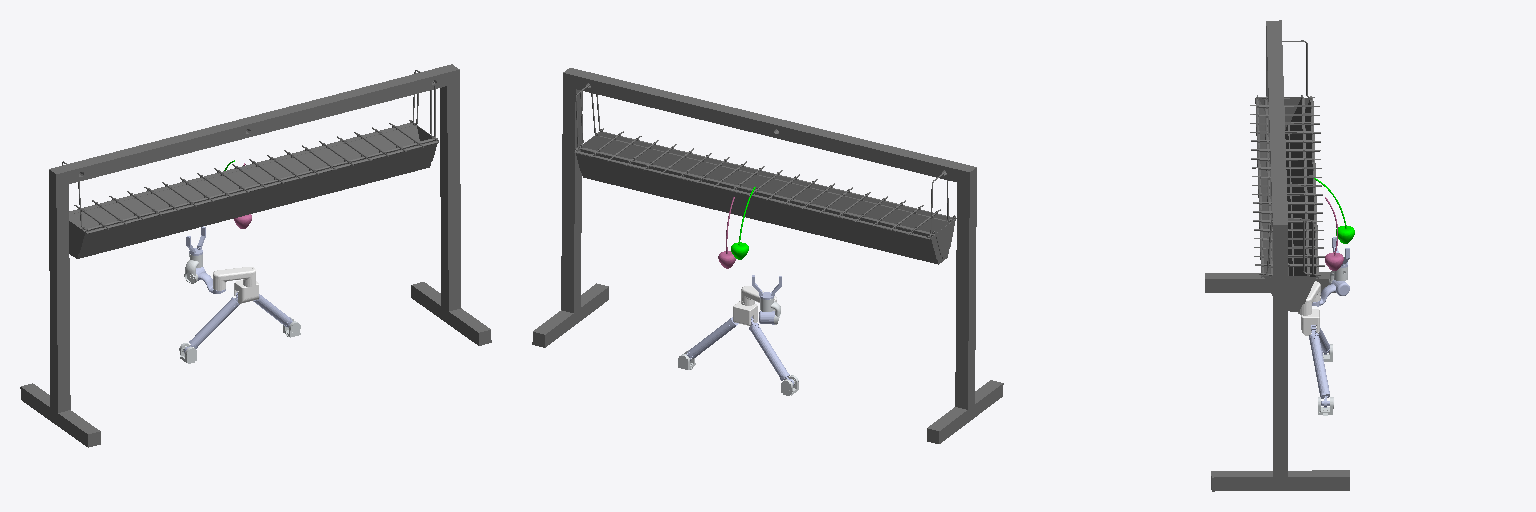
--- Facts derived from the render (not from the file) ---
Views: 3 orthographic renders of the robot side by side, from view 1: azimuth 30°, elevation 25°; view 2: azimuth 150°, elevation 25°; view 3: azimuth 270°, elevation 25°.
Model arm12 with 29 links and 28 joints (16 revolute, 6 continuous, 2 prismatic, 4 fixed), rooted at rotated_base, posed every joint at zero.
Links seen in each view (by area): view 1: left_holder, pot, l6, l3; view 2: left_holder, pot, l3, l11; view 3: left_holder, pot, l11.
Link boxes in pixels (box(x1,y1,x2,y2)): left_holder: box(20, 64, 491, 447); pot: box(62, 70, 434, 255); l6: box(213, 267, 255, 290); l3: box(184, 292, 239, 352); left_holder: box(532, 68, 1003, 443); pot: box(574, 85, 951, 264); l3: box(749, 316, 793, 385); l11: box(686, 317, 738, 360); left_holder: box(1205, 20, 1349, 491); pot: box(1259, 40, 1324, 311); l11: box(1309, 325, 1329, 407).
Size in the robot's own frame: 2.42 by 0.731 by 1.44 metres.
Meshes: 18 distinct files referenced, 13 mesh visuals loaded (11 binary STL, 2 ASCII STL); not drawn: 5 (reference not matched to a file when rendering).

The robot description file, URDF, robot "arm12":
<?xml version="1.0" ?>
<!-- =================================================================================== -->
<!-- |    This document was autogenerated by xacro from src/arm12/urdf/arm12.urdf.xacro | -->
<!-- |    EDITING THIS FILE BY HAND IS NOT RECOMMENDED                                 | -->
<!-- =================================================================================== -->
<robot name="arm12">
  <!-- <robot
  name="straw"> -->
  <material name="gray">
    <color rgba="0.5 0.5 0.5 1.0"/>
  </material>
  <material name="green">
    <color rgba="0. 1 0. 1.0"/>
  </material>

  <link name="straw_base_link">
    <inertial>
      <origin rpy="0 0 0" xyz="0.72536 -2.6077 -1.278"/>
      <mass value="83.793"/>
      <inertia ixx="49.037" ixy="12.983" ixz="-0.85625" iyy="197.29" iyz="0.10604" izz="153.05"/>
    </inertial>
    <!-- <visual>
      <origin rpy="0 0 0" xyz="0 0 0"/>
      <geometry>
        <mesh filename="package://straw/meshes/straw_base_link.STL" scale="0.75 0.75 0.75"/>
      </geometry>
      <material name="gray"/>
    </visual> -->
    <!-- <collision>
      <origin rpy="0 0 0" xyz="0 0 0"/>
      <geometry>
        <mesh filename="package://straw/meshes/straw_base_link.STL"  scale="0.75 0.75 0.75"/>
      </geometry>
    </collision> -->
  </link>
  <link name="left_holder">
    <inertial>
      <origin rpy="0 0 0" xyz="0.068289 -1.3911 0.41242"/>
      <mass value="90.637"/>
      <inertia ixx="203.28" ixy="-5.2628E-06" ixz="-4.6215E-05" iyy="48.292" iyz="5.4272" izz="157.67"/>
    </inertial>
    <visual>
      <origin rpy="0 0 0" xyz="0 0 0"/>
      <geometry>
        <mesh filename="package://straw/meshes/left_holder.STL"  scale="0.75 0.75 0.75"/>
      </geometry>
      <material name="gray"/>
    </visual>
    <!-- <collision>
      <origin rpy="0 0 0" xyz="0 0 0"/>
      <geometry>
        <mesh filename="package://straw/meshes/left_holder.STL"  scale="0.75 0.75 0.75"/>
      </geometry>
    </collision> -->
  </link>
  <joint name="lh1" type="fixed">
    <!-- <origin rpy="-3.1003 -0.0006971 1.4841" xyz="0 0 0"/> -->
    <origin rpy="-3.1003 -0.0006971 1.4841" xyz="2.1219 -2.7952 -0.90577"/>
    <parent link="straw_base_link"/>
    <child link="left_holder"/>
    <axis xyz="0 0 0"/>
  </joint>
  <link name="pot">
    <inertial>
      <origin rpy="0 0 0" xyz="0.0723 -0.11104 1.4288"/>
      <mass value="7.0989"/>
      <inertia ixx="4.8702" ixy="1.4633E-05" ixz="-1.887E-06" iyy="4.8836" iyz="0.044366" izz="0.12976"/>
    </inertial>
    <visual>
      <origin rpy="0 0 0" xyz="0 0 0"/>
      <geometry>
        <mesh filename="package://straw/meshes/pot.STL"  scale="0.75 0.75 0.75"/>
      </geometry>
      <material name="gray"/>
    </visual>
    <collision>
      <origin rpy="0 0 0" xyz="0 0 0"/>
      <geometry>
        <mesh filename="package://straw/meshes/pot.STL"  scale="0.75 0.75 0.75"/>
      </geometry>
    </collision>
  </link>
  <joint name="lf_pot" type="fixed">
    <origin rpy="-1.5306 0 -3.1416" xyz="0.17343 0.013392 0.017884"/>
    <parent link="left_holder"/>
    <child link="pot"/>
    <axis xyz="0 0 0"/>
  </joint>
  <link name="stem1">
    <inertial>
      <origin rpy="0 0 0" xyz="0.31086 -0.35019 0.00026615"/>
      <mass value="1.1291"/>
      <inertia ixx="0.0022005" ixy="0.00034925" ixz="-8.6306E-07" iyy="0.002305" iyz="3.3465E-06" izz="0.0025724"/>
    </inertial>
    <visual>
      <origin rpy="0 0 0" xyz="0 0 0"/>
      <geometry>
        <mesh filename="package://straw/meshes/stem1.STL" scale="0.7 0.7 0.7"/>
      </geometry>
      <material name="green"/>
    </visual>
    <collision>
      <origin rpy="0 0 0" xyz="0 0 0"/>
      <geometry>
        <mesh filename="package://straw/meshes/stem1.STL" scale="0.7 0.7 0.7"/>
      </geometry>
    </collision>
  </link>
  <link name="straw1_intermediate">
    <inertial>
      <mass value="0.001"/>
      <inertia ixx="0.0001" ixy="0" ixz="0" iyy="0.0001" iyz="0" izz="0.0001"/>
    </inertial>
  </link>
  <joint name="stem1_straw1_joint_x" type="revolute">
    <parent link="stem1"/>
    <child link="straw1_intermediate"/>
    <origin rpy="0 0 0" xyz="0.33533 -0.43279 -0.0013777"/>
    <axis xyz="1 0 0"/>
    <limit effort="10" lower="-0.785" upper="0.785" velocity="1"/>
    <dynamics damping="0.5" friction="0.1"/>
  </joint>
  <joint name="stem1_straw1_joint_y" type="revolute">
    <parent link="straw1_intermediate"/>
    <child link="straw1"/>
    <origin rpy="0.25307 -1.4835 0" xyz="0 0 0"/>
    <axis xyz="0 1 0"/>
    <limit effort="10" lower="-0.785" upper="0.785" velocity="1"/>
    <dynamics damping="0.5" friction="0.1"/>
  </joint>
  <link name="straw1">
    <inertial>
      <origin rpy="0 0 0" xyz="0 0.075854 -9.8582E-07"/>
      <mass value="1.0831"/>
      <inertia ixx="0.0017742" ixy="3.2552E-19" ixz="2.1395E-23" iyy="0.0019325" iyz="3.2233E-08" izz="0.0017742"/>
    </inertial>
    <visual>
      <origin rpy="0 0 0" xyz="0 0 0"/>
      <geometry>
        <mesh filename="package://straw/meshes/straw1.STL" scale="1 1 1"/>
      </geometry>
      <material name="transparent_gray">
        <color rgba="0.5 0.5 0.5 0"/> 
      </material>
    </visual>
    <!-- <collision>
      <origin rpy="0 0 0" xyz="0 0 0"/>
      <geometry>
        <mesh filename="package://straw/meshes/straw1.STL" scale="1 1 1"/>
      </geometry>
    </collision> -->
  </link>
  <link name="stem2">
    <inertial>
      <origin rpy="0 0 0" xyz="0.32679 -0.34228 -0.0023318"/>
      <mass value="1.1291"/>
      <inertia ixx="0.0022449" ixy="0.00031251" ixz="-4.7508E-06" iyy="0.0022602" iyz="6.5609E-06" izz="0.0025727"/>
    </inertial>
    <visual>
      <origin rpy="0 0 0" xyz="0.08 -0.05 -0"/>
      <geometry>
        <mesh filename="package://straw/meshes/stem2.STL" scale="0.7 0.7 0.7"/>
      </geometry>
      <!-- <material name="green"/> -->
    </visual>
    <collision>
      <origin rpy="0 0 0" xyz="0.08 -0.05 -0"/>
      <geometry>
        <mesh filename="package://straw/meshes/stem2.STL" scale="0.7 0.7 0.7"/>
      </geometry>
    </collision>
  </link>
  <link name="straw2_intermediate">
    <inertial>
      <mass value="0.001"/>
      <inertia ixx="0.0001" ixy="0" ixz="0" iyy="0.0001" iyz="0" izz="0.0001"/>
    </inertial>
  </link>
  <joint name="stem2_straw2_joint_x" type="revolute">
    <parent link="stem2"/>
    <child link="straw2_intermediate"/>
    <origin rpy="0 0 0" xyz="0.37743 -0.41247 -0.0063167"/>
    <axis xyz="1 0 0"/>
    <limit effort="10" lower="-0.785" upper="0.785" velocity="1"/>
    <dynamics damping="0.5" friction="0.1"/>
  </joint>
  <joint name="stem2_straw2_joint_y" type="revolute">
    <parent link="straw2_intermediate"/>
    <child link="straw2"/>
    <origin rpy="0.62832 -1.4835 0" xyz="0 0 0"/>
    <axis xyz="0 1 0"/>
    <limit effort="10" lower="-0.785" upper="0.785" velocity="1"/>
    <dynamics damping="0.5" friction="0.1"/>
  </joint>
  <link name="straw2">
    <inertial>
      <origin rpy="0 0 0" xyz="0 0.075854 -9.8582E-07"/>
      <mass value="1.0831"/>
      <inertia ixx="0.0017742" ixy="2.5998E-20" ixz="2.2169E-24" iyy="0.0019325" iyz="3.2233E-08" izz="0.0017742"/>
    </inertial>
    <visual>
      <origin rpy="0 0 0" xyz="0 0 0"/>
      <geometry>
        <mesh filename="package://straw/meshes/straw2.STL" scale="1 1 1"/>
      </geometry>
      <material name="transparent_gray">
        <color rgba="0.5 0.5 0.5 0"/> 
      </material>
    </visual>
    <!-- <collision>
      <origin rpy="0 0 0" xyz="0 0 0"/>
      <geometry>
        <mesh filename="package://straw/meshes/straw2.STL" scale="1 1 1"/>
      </geometry>
    </collision> -->
  </link>
  <link name="stem3">
    <inertial>
      <origin rpy="0 0 0" xyz="0.31061 -0.35019 -0.0026474"/>
      <mass value="1.1291"/>
      <inertia ixx="0.0022005" ixy="0.00034925" ixz="-8.6306E-07" iyy="0.002305" iyz="3.3465E-06" izz="0.0025724"/>
    </inertial>
    <visual>
      <origin rpy="0 0 0" xyz="0 0 0"/>
      <geometry>
        <mesh filename="package://straw/meshes/stem3.STL" scale="0.7 0.7 0.7"/>
      </geometry>
      <material name="green"/>
    </visual>
    <collision>
      <origin rpy="0 0 0" xyz="0 0 0"/>
      <geometry>
        <mesh filename="package://straw/meshes/stem3.STL" scale="0.7 0.7 0.7"/>
      </geometry>
    </collision>
  </link>
  <link name="straw3_intermediate">
    <inertial>
      <mass value="0.001"/>
      <inertia ixx="0.0001" ixy="0" ixz="0" iyy="0.0001" iyz="0" izz="0.0001"/>
    </inertial>
  </link>
  <joint name="stem3_straw3_joint_x" type="revolute">
    <parent link="stem3"/>
    <child link="straw3_intermediate"/>
    <origin rpy="0 0 0" xyz="0.33506 -0.43279 -0.0044151"/>
    <axis xyz="1 0 0"/>
    <limit effort="10" lower="-0.785" upper="0.785" velocity="1"/>
    <dynamics damping="0.5" friction="0.1"/>
  </joint>
  <joint name="stem3_straw3_joint_y" type="revolute">
    <parent link="straw3_intermediate"/>
    <child link="straw3"/>
    <origin rpy="0.25307 -1.4835 0" xyz="0 0 0"/>
    <axis xyz="0 1 0"/>
    <limit effort="10" lower="-0.785" upper="0.785" velocity="1"/>
    <dynamics damping="0.5" friction="0.1"/>
  </joint>
  <link name="straw3">
    <inertial>
      <origin rpy="0 0 0" xyz="-2.2204E-16 0.075854 -9.8582E-07"/>
      <mass value="1.0831"/>
      <inertia ixx="0.0017742" ixy="6.2414E-20" ixz="1.0659E-23" iyy="0.0019325" iyz="3.2233E-08" izz="0.0017742"/>
    </inertial>
    <visual>
      <origin rpy="0 0 0" xyz="0 0 0"/>
      <geometry>
        <mesh filename="package://straw/meshes/straw3.STL" scale="1 1 1" />
      </geometry>
      <material name="transparent_gray">
        <color rgba="0.5 0.5 0.5 0"/> 
      </material>

    </visual>
    <!-- <collision>
      <origin rpy="0 0 0" xyz="0 0 0"/>
      <geometry>
        <mesh filename="package://straw/meshes/straw3.STL" scale="0.75 0.75 0.75"/>
      </geometry>
    </collision> -->
  </link>
  <!-- <link name="right_holder">
    <inertial>
      <origin rpy="0 0 0" xyz="0.16998 1.3378 0.16679"/>
      <mass value="7.0141"/>
      <inertia ixx="4.8686" ixy="1.7169E-06" ixz="-4.633E-05" iyy="0.12782" iyz="-0.073617" izz="4.8819"/>
    </inertial>
    <visual>
      <origin rpy="0 0 0" xyz="0 0 0"/>
      <geometry>
        <mesh filename="package://straw/meshes/right_holder.STL"/>
      </geometry>
      <material name="gray"/>
    </visual>
    <collision>
      <origin rpy="0 0 0" xyz="0 0 0"/>
      <geometry>
        <mesh filename="package://straw/meshes/right_holder.STL"/>
      </geometry>
    </collision>
  </link> -->
  <!-- <joint name="rh1" type="fixed">
    <origin rpy="3.1178 -0.0006971 1.4841" xyz="-0.64819 -2.6236 -0.90294"/>
    <parent link="base_link"/>
    <child link="right_holder"/>
    <axis xyz="0 0 0"/>
  </joint> -->
  <link name="stem1_intermediate1">
    <inertial>
      <mass value="0.001"/>
      <inertia ixx="0.0001" ixy="0" ixz="0" iyy="0.0001" iyz="0" izz="0.0001"/>
    </inertial>
  </link>
  <link name="stem1_intermediate2">
    <inertial>
      <mass value="0.001"/>
      <inertia ixx="0.0001" ixy="0" ixz="0" iyy="0.0001" iyz="0" izz="0.0001"/>
    </inertial>
  </link>
  <joint name="pot_stem1_x" type="revolute">
    <parent link="pot"/>
    <child link="stem1_intermediate1"/>
    <origin rpy="0 0 0" xyz="-0.069846 0.034051 0.92078"/>
    <axis xyz="1 0 0"/>
    <limit effort="10" lower="-0.523" upper="0.523" velocity="1"/>
    <dynamics damping="0.5" friction="0.1"/>
  </joint>
  <joint name="pot_stem1_y" type="revolute">
    <parent link="stem1_intermediate1"/>
    <child link="stem1_intermediate2"/>
    <origin rpy="0 0 0" xyz="0 0 0"/>
    <axis xyz="0 1 0"/>
    <limit effort="10" lower="-0.523" upper="0.523" velocity="1"/>
    <dynamics damping="0.5" friction="0.1"/>
  </joint>
  <joint name="pot_stem1_z" type="revolute">
    <parent link="stem1_intermediate2"/>
    <child link="stem1"/>
    <origin rpy="3.1189 0.0035789 -2.8888" xyz="0 0 0"/>
    <axis xyz="0 0 1"/>
    <limit effort="10" lower="-0.523" upper="0.523" velocity="1"/>
    <dynamics damping="0.5" friction="0.1"/>
  </joint>
  <link name="stem2_intermediate1">
    <inertial>
      <mass value="0.001"/>
      <inertia ixx="0.0001" ixy="0" ixz="0" iyy="0.0001" iyz="0" izz="0.0001"/>
    </inertial>
  </link>
  <link name="stem2_intermediate2">
    <inertial>
      <mass value="0.001"/>
      <inertia ixx="0.0001" ixy="0" ixz="0" iyy="0.0001" iyz="0" izz="0.0001"/>
    </inertial>
  </link>
  <joint name="pot_stem2_x" type="revolute">
    <parent link="pot"/>
    <child link="stem2_intermediate1"/>
    <origin rpy="0 0 0" xyz="-0.071011 0.062145 0.99538"/>
    <axis xyz="1 0 0"/>
    <limit effort="10" lower="-0.523" upper="0.523" velocity="1"/>
    <dynamics damping="0.5" friction="0.1"/>
  </joint>
  <joint name="pot_stem2_y" type="revolute">
    <parent link="stem2_intermediate1"/>
    <child link="stem2_intermediate2"/>
    <origin rpy="0 0 0" xyz="0 0 0"/>
    <axis xyz="0 1 0"/>
    <limit effort="10" lower="-0.523" upper="0.523" velocity="1"/>
    <dynamics damping="0.5" friction="0.1"/>
  </joint>
  <joint name="pot_stem2_z" type="revolute">
    <parent link="stem2_intermediate2"/>
    <child link="stem2"/>
    <origin rpy="3.0898 0.017653 -2.5152" xyz="0 0 0"/>
    <axis xyz="0 0 1"/>
    <limit effort="10" lower="-0.523" upper="0.523" velocity="1"/>
    <dynamics damping="0.5" friction="0.1"/>
  </joint>
  <link name="stem3_intermediate1">
    <inertial>
      <mass value="0.001"/>
      <inertia ixx="0.0001" ixy="0" ixz="0" iyy="0.0001" iyz="0" izz="0.0001"/>
    </inertial>
  </link>
  <link name="stem3_intermediate2">
    <inertial>
      <mass value="0.001"/>
      <inertia ixx="0.0001" ixy="0" ixz="0" iyy="0.0001" iyz="0" izz="0.0001"/>
    </inertial>
  </link>
  <joint name="pot_stem3_x" type="revolute">
    <parent link="pot"/>
    <child link="stem3_intermediate1"/>
    <origin rpy="0 0 0" xyz="-0.05556 0.033891 1.0852"/>
    <axis xyz="1 0 0"/>
    <limit effort="10" lower="-0.523" upper="0.523" velocity="1"/>
    <dynamics damping="0.5" friction="0.1"/>
  </joint>
  <joint name="pot_stem3_y" type="revolute">
    <parent link="stem3_intermediate1"/>
    <child link="stem3_intermediate2"/>
    <origin rpy="0 0 0" xyz="0 0 0"/>
    <axis xyz="0 1 0"/>
    <limit effort="10" lower="-0.523" upper="0.523" velocity="1"/>
    <dynamics damping="0.5" friction="0.1"/>
  </joint>
  <joint name="pot_stem3_z" type="revolute">
    <parent link="stem3_intermediate2"/>
    <child link="stem3"/>
    <origin rpy="3.1189 0.0035789 -2.8888" xyz="0 0 0"/>
    <axis xyz="0 0 1"/>
    <limit effort="10" lower="-0.523" upper="0.523" velocity="1"/>
    <dynamics damping="0.5" friction="0.1"/>
  </joint>
  <link name="rotated_base"/>
  <joint name="rot_to_base" type="fixed">
    <parent link="rotated_base"/>
    <child link="base_link"/>
    <origin rpy="0 3.14 0" xyz="0 0 0"/>
  </joint>
  <joint name="attach_straw" type="fixed">
    <parent link="rotated_base"/>
    <child link="straw_base_link"/>
    <origin rpy="0 0 0.1" xyz="-1.3 2.3 2"/>
  </joint>
  <link name="base_link">
    <inertial>
      <origin rpy="0 0 0" xyz="-0.114741653388133 -0.00394836028883594 -0.0536105920933669"/>
      <mass value="2.63443753992699"/>
      <inertia ixx="0.00189567328668365" ixy="7.29873865389891E-06" ixz="0.000140090900098037" iyy="0.158992383742472" iyz="1.36209227842431E-06" izz="0.158257846821755"/>
    </inertial>
    <visual>
      <origin rpy="0 0 0" xyz="0 0 0"/>
      <geometry>
        <mesh filename="package://arm12/meshes/base_link.STL"/>
      </geometry>
      <material name="">
        <color rgba="0.792156862745098 0.819607843137255 0.933333333333333 1"/>
      </material>
    </visual>
    <collision>
      <origin rpy="0 0 0" xyz="0 0 0"/>
      <geometry>
        <mesh filename="package://arm12/meshes/base_link.STL"/>
      </geometry>
    </collision>
  </link>
  <link name="l1">
    <inertial>
      <origin rpy="0 0 0" xyz="0.403597483420043 -0.0414638574022828 0.00700359932104074"/>
      <mass value="0.381600228345592"/>
      <inertia ixx="0.000152419359459052" ixy="-1.16717541525886E-07" ixz="-4.78639401455686E-07" iyy="0.00015874224871389" iyz="3.26007402233397E-07" izz="0.000167838112577603"/>
    </inertial>
    <visual>
      <origin rpy="0 0 0" xyz="0 0 0"/>
      <geometry>
        <mesh filename="package://arm12/meshes/l1.STL"/>
      </geometry>
      <material name="">
        <color rgba="0.898039215686275 0.917647058823529 0.929411764705882 1"/>
      </material>
    </visual>
    <collision>
      <origin rpy="0 0 0" xyz="0 0 0"/>
      <geometry>
        <mesh filename="package://arm12/meshes/l1.STL"/>
      </geometry>
    </collision>
  </link>
  <joint name="j1" type="prismatic">
    <origin rpy="1.5708 0 0" xyz="-0.79073 0.0075 -0.026676"/>
    <parent link="base_link"/>
    <child link="l1"/>
    <axis xyz="1 0.00024256 0"/>
    <limit effort="1000" lower="-0.37" upper="0.35" velocity="1000"/>
  </joint>
  <link name="l11">
    <inertial>
      <origin rpy="0 0 0" xyz="0.109124708134365 -0.106742142823085 0.0291269836365173"/>
      <mass value="0.308192429361636"/>
      <inertia ixx="0.00036660835632017" ixy="0.000236532188858594" ixz="-5.91891737788076E-05" iyy="0.000377052003364126" iyz="5.79126892712075E-05" izz="0.000595833629485193"/>
    </inertial>
    <visual>
      <origin rpy="0 0 0" xyz="0 0 0"/>
      <geometry>
        <mesh filename="package://arm12/meshes/l11.STL"/>
      </geometry>
      <material name="">
        <color rgba="0.792156862745098 0.819607843137255 0.933333333333333 1"/>
      </material>
    </visual>
    <collision>
      <origin rpy="0 0 0" xyz="0 0 0"/>
      <geometry>
        <mesh filename="package://arm12/meshes/l11.STL"/>
      </geometry>
    </collision>
  </link>
  <joint name="j11" type="continuous">
    <origin rpy="0 0 0" xyz="0.403574468337888 -0.0486058728976355 -0.000248553231492891"/>
    <parent link="l1"/>
    <child link="l11"/>
    <axis xyz="0 0 -1"/>
  </joint>
  <link name="l2">
    <inertial>
      <origin rpy="0 0 0" xyz="1.0157003601035 -0.0384463563381593 0.00765610841163893"/>
      <mass value="0.51688405008029"/>
      <inertia ixx="0.000289252991255811" ixy="6.16500231917276E-07" ixz="-1.38368241480024E-06" iyy="0.000291829291446418" iyz="-1.10552388292668E-06" izz="0.00026788505040365"/>
    </inertial>
    <visual>
      <origin rpy="0 0 0" xyz="0 0 0"/>
      <geometry>
        <mesh filename="package://arm12/meshes/l2.STL"/>
      </geometry>
      <material name="">
        <color rgba="0.898039215686275 0.917647058823529 0.929411764705882 1"/>
      </material>
    </visual>
    <collision>
      <origin rpy="0 0 0" xyz="0 0 0"/>
      <geometry>
        <mesh filename="package://arm12/meshes/l2.STL"/>
      </geometry>
    </collision>
  </link>
  <joint name="j2" type="prismatic">
    <origin rpy="1.5708 0 0" xyz="-0.79073 0.0075 -0.026676"/>
    <parent link="base_link"/>
    <child link="l2"/>
    <axis xyz="1 0.00024256 0"/>
    <limit effort="1000" lower="-0.26" upper="0.32" velocity="1000"/>
  </joint>
  <link name="l3">
    <inertial>
      <origin rpy="0 0 0" xyz="-0.10814121670337 -0.105773126393835 0.0288760940795127"/>
      <mass value="0.306128922940993"/>
      <inertia ixx="0.000367090541907876" ixy="-0.000237220677320172" ixz="5.90721357269542E-05" iyy="0.000377593275938236" iyz="5.77716342409563E-05" izz="0.000596928132744383"/>
    </inertial>
    <visual>
      <origin rpy="0 0 0" xyz="0 0 0"/>
      <geometry>
        <mesh filename="package://arm12/meshes/l3.STL"/>
      </geometry>
      <material name="">
        <color rgba="0.792156862745098 0.819607843137255 0.933333333333333 1"/>
      </material>
    </visual>
    <collision>
      <origin rpy="0 0 0" xyz="0 0 0"/>
      <geometry>
        <mesh filename="package://arm12/meshes/l3.STL"/>
      </geometry>
    </collision>
  </link>
  <joint name="j3" type="revolute">
    <origin rpy="0 0 0" xyz="1.0158 -0.048606 -0.00024711"/>
    <parent link="l2"/>
    <child link="l3"/>
    <axis xyz="0 0 -1"/>
    <limit effort="1000" lower="-0.65" upper="0.7" velocity="1000"/>
  </joint>
  <link name="l4">
    <inertial>
      <origin rpy="0 0 0" xyz="-0.0247644704780808 -0.0233597492007901 0.033905617015353"/>
      <mass value="0.247877954974344"/>
      <inertia ixx="0.000275512262276771" ixy="-4.01235172214852E-08" ixz="5.68470398676511E-07" iyy="0.000303231827207215" iyz="4.68448608364464E-05" izz="0.000495903390975614"/>
    </inertial>
    <visual>
      <origin rpy="0 0 0" xyz="0 0 0"/>
      <geometry>
        <mesh filename="package://arm12/meshes/l4.STL"/>
      </geometry>
      <material name="">
        <color rgba="1 1 1 1"/>
      </material>
    </visual>
    <collision>
      <origin rpy="0 0 0" xyz="0 0 0"/>
      <geometry>
        <mesh filename="package://arm12/meshes/l4.STL"/>
      </geometry>
    </collision>
  </link>
  <joint name="j4" type="continuous">
    <origin rpy="0 0 0" xyz="-0.2814 -0.27508 0.049459"/>
    <parent link="l3"/>
    <child link="l4"/>
    <axis xyz="0 0 1"/>
    <limit effort="1000" lower="1000" upper="1000" velocity="1000"/>
    <mimic joint="j3" multiplier="1" offset="0"/>
  </joint>
  <link name="l6">
    <inertial>
      <origin rpy="0 0 0" xyz="0.0835083121801821 -0.0131318490598266 -0.022315022598535"/>
      <mass value="0.492993890644909"/>
      <inertia ixx="0.000390471608455916" ixy="2.48268434817755E-06" ixz="0.000302295718302552" iyy="0.00155512945705818" iyz="-1.20122073303538E-06" izz="0.00147705952278512"/>
    </inertial>
    <visual>
      <origin rpy="0 0 0" xyz="0 0 0"/>
      <geometry>
        <mesh filename="package://arm12/meshes/l6.STL"/>
      </geometry>
      <material name="">
        <color rgba="1 1 1 1"/>
      </material>
    </visual>
    <collision>
      <origin rpy="0 0 0" xyz="0 0 0"/>
      <geometry>
        <mesh filename="package://arm12/meshes/l6.STL"/>
      </geometry>
    </collision>
  </link>
  <joint name="j6" type="continuous">
    <origin rpy="0 0 0" xyz="-0.031134 -0.097956 0.059414"/>
    <parent link="l4"/>
    <child link="l6"/>
    <axis xyz="0 1 0"/>
    <limit effort="1000" lower="1000" upper="1000" velocity="1000"/>
  </joint>
  <link name="l7">
    <inertial>
      <origin rpy="0 0 0" xyz="0.0315318501806746 0.00583507478957768 -0.0817967507514115"/>
      <mass value="0.200740625287396"/>
      <inertia ixx="0.000563180696639149" ixy="8.48547014814516E-05" ixz="0.000202999903698582" iyy="0.000610313185565538" iyz="-0.000156946216691284" izz="0.000315973335029523"/>
    </inertial>
    <visual>
      <origin rpy="0 0 0" xyz="0 0 0"/>
      <geometry>
        <mesh filename="package://arm12/meshes/l7.STL"/>
      </geometry>
      <material name="">
        <color rgba="0.792156862745098 0.819607843137255 0.933333333333333 1"/>
      </material>
    </visual>
    <collision>
      <origin rpy="0 0 0" xyz="0 0 0"/>
      <geometry>
        <mesh filename="package://arm12/meshes/l7.STL"/>
      </geometry>
    </collision>
  </link>
  <joint name="j7" type="continuous">
    <origin rpy="0 0 0" xyz="0.16802 0 -0.043732"/>
    <parent link="l6"/>
    <child link="l7"/>
    <axis xyz="0 1 0"/>
    <limit effort="1000" lower="1000" upper="1000" velocity="100000"/>
  </joint>
  <link name="l8">
    <inertial>
      <origin rpy="0 0 0" xyz="-0.00639785855543679 -0.105467190035519 0.0332454721635889"/>
      <mass value="0.232745208884819"/>
      <inertia ixx="0.000344329566709667" ixy="-0.000100351533357395" ixz="-3.41790292256826E-06" iyy="0.000220748774570507" iyz="9.99580236012298E-06" izz="0.000406188026813068"/>
    </inertial>
    <visual>
      <origin rpy="0 1.57 0" xyz="-0.042  -0.274 0.085"/>
      <geometry>
        <mesh filename="package://arm12/meshes/l8.STL"/>
      </geometry>
      <material name="">
        <color rgba="0.898039215686275 0.917647058823529 0.929411764705882 1"/>
      </material>
    </visual>
    <collision>
      <origin rpy="0 1.57 0" xyz="-0.042  -0.274 0.085"/>
      <geometry>
        <mesh filename="package://arm12/meshes/l8.STL"/>
      </geometry>
    </collision>
  </link>
  <joint name="j8" type="continuous">
    <origin rpy="0.48 -0.47 0" xyz="0.057439 -0.0094087 -0.13"/>
    <parent link="l7"/>
    <child link="l8"/>
    <axis xyz="-1 0 0"/>
    <limit effort="1000" lower="1000" upper="1000" velocity="100000"/>
  </joint>
  <link name="tool0">
    <inertial>
      <origin rpy="0 0 0" xyz="0.0835083121801821 -0.0131318490598266 -0.022315022598535"/>
      <mass value="0.492993890644909"/>
      <inertia ixx="0.000390471608455916" ixy="2.48268434817755E-06" ixz="0.000302295718302552" iyy="0.00155512945705818" iyz="-1.20122073303538E-06" izz="0.00147705952278512"/>
    </inertial>
    <visual>
      <origin rpy="1.57 0 0" xyz="-0.0773 0.042 -0.036"/>
      <geometry>
        <mesh filename="package://arm12/meshes/gripper.STL"/>
      </geometry>
      <material name="">
        <color rgba="0.792156862745098 0.819607843137255 0.933333333333333 1"/>
      </material>
    </visual>
    <!-- <collision>
      <origin rpy="1.57 0 0" xyz="-0.0773 0.042 -0.036"/>
      <geometry>
        <mesh filename="package://arm12/meshes/gripper.STL"/>
      </geometry>
    </collision> -->
  </link>
  <joint name="tool0_joint" type="continuous">
    <axis xyz="0 -1 0"/>
    <limit effort="1000" lower="1000" upper="1000" velocity="1000000"/>
    <parent link="l8"/>
    <child link="tool0"/>
    <origin rpy="-0.48 0 0" xyz="-0.007 -0.09 0.047"/>
  </joint>
</robot>
<!-- <origin xyz="-0.025 -0.2 0.05" rpy="-0.35 -0.50 0"/> -->
